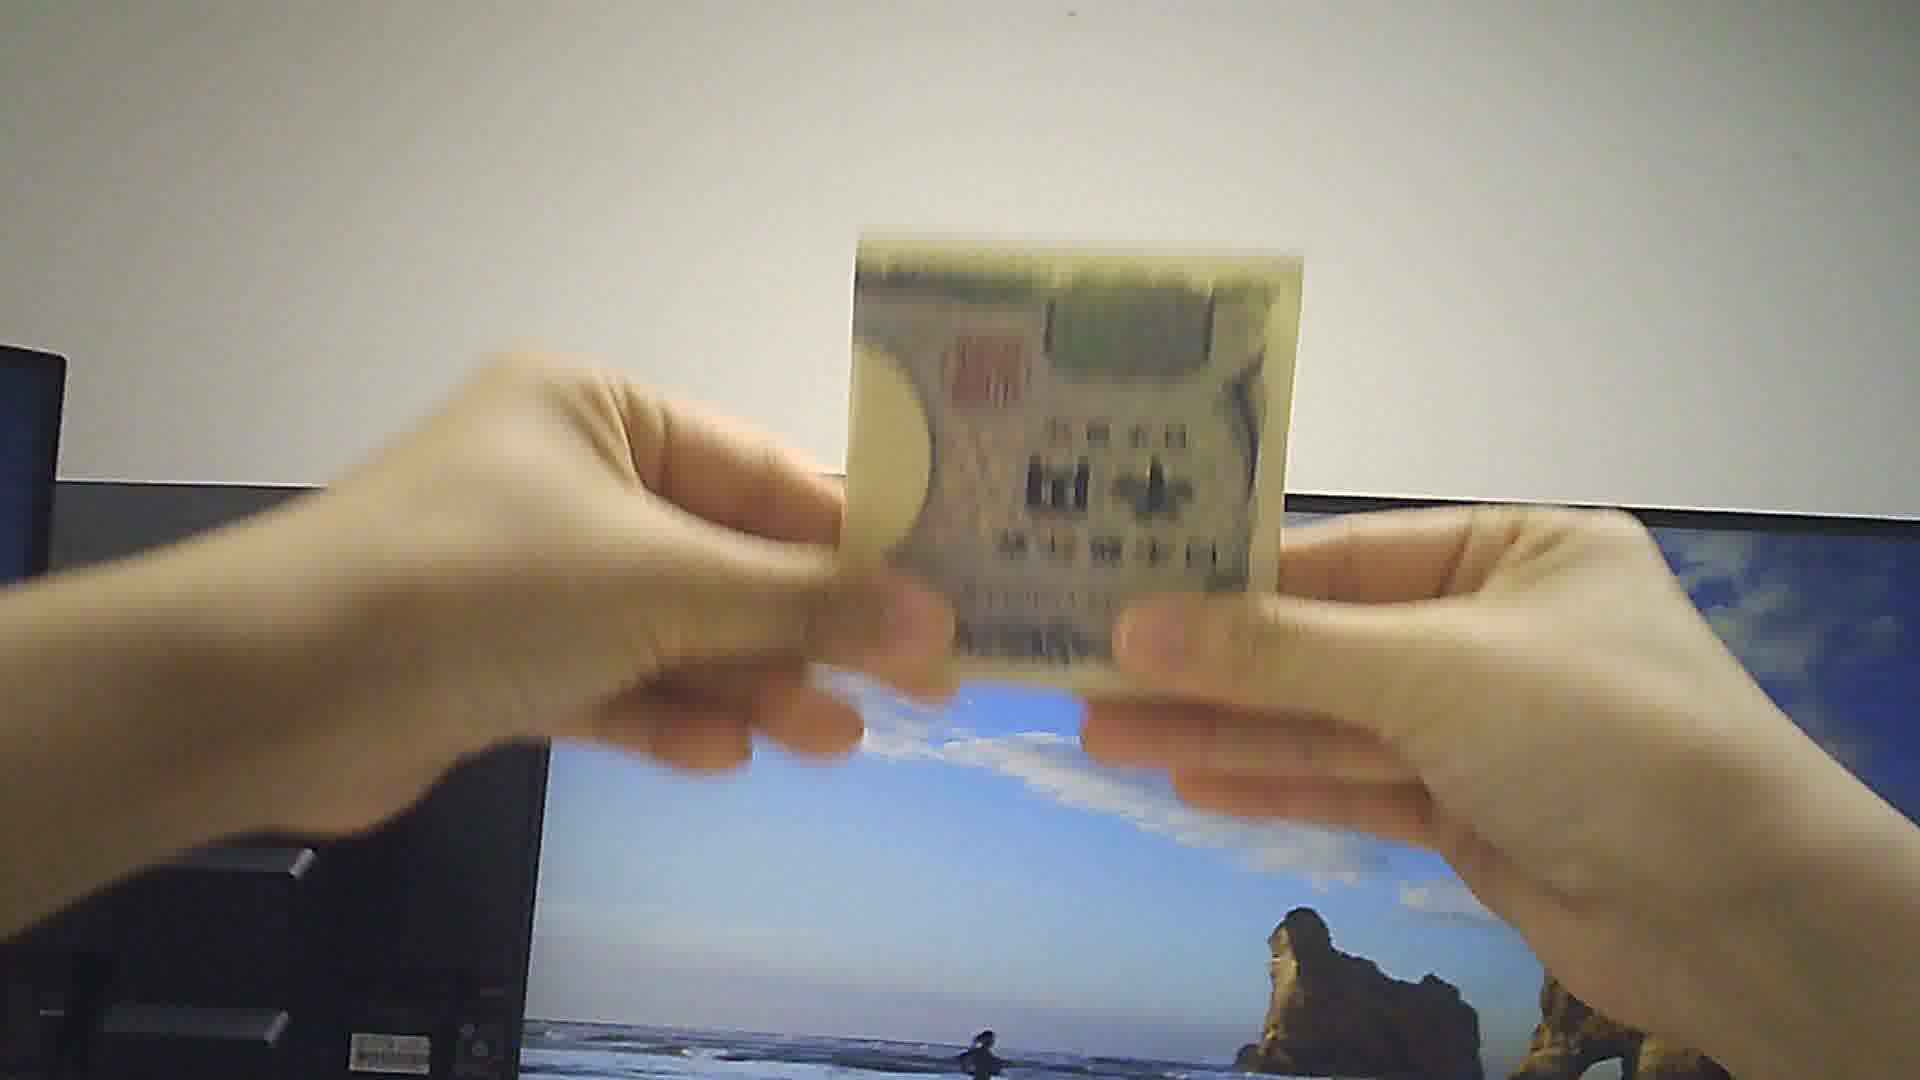1,000 Yen: (823, 216, 1336, 727)
